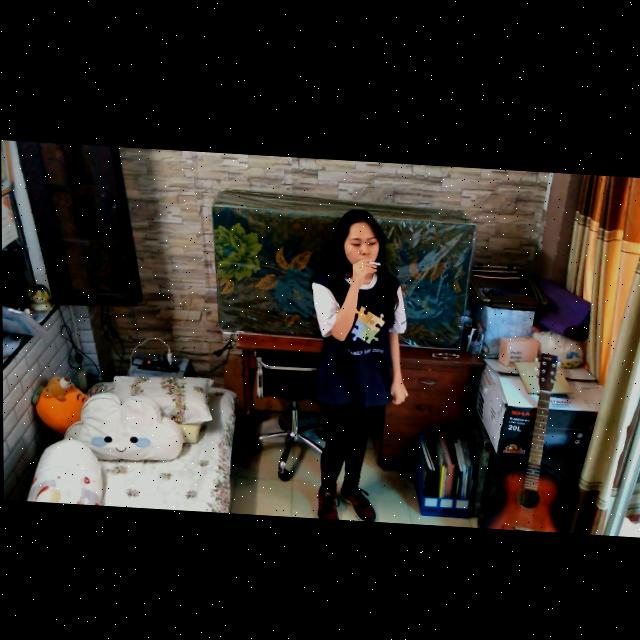cigarette: (368, 257, 380, 262)
